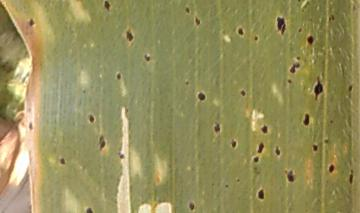tarspot: (312, 77, 324, 100), (283, 167, 296, 182), (276, 16, 286, 35), (97, 135, 106, 151), (235, 26, 246, 37), (306, 33, 315, 46), (256, 187, 265, 200), (348, 168, 355, 183), (302, 113, 310, 126), (290, 62, 300, 72), (126, 30, 134, 42), (213, 120, 220, 133), (116, 150, 126, 159), (87, 114, 96, 124), (197, 91, 206, 101), (27, 118, 33, 132), (328, 161, 335, 173), (327, 13, 336, 22), (58, 155, 66, 165), (103, 1, 111, 11), (260, 124, 268, 134), (143, 52, 151, 61), (187, 201, 195, 210), (258, 141, 264, 153), (274, 144, 280, 156), (28, 17, 35, 27), (193, 15, 200, 25), (83, 207, 94, 213), (231, 138, 237, 149), (251, 33, 259, 41), (80, 87, 87, 95), (123, 105, 130, 113), (184, 6, 191, 14), (183, 78, 190, 86), (286, 77, 293, 85), (294, 53, 301, 61), (296, 25, 303, 33), (235, 175, 241, 184), (253, 155, 259, 163), (312, 143, 318, 151), (323, 136, 329, 144), (328, 117, 334, 125), (240, 89, 246, 97), (116, 71, 121, 80), (348, 83, 353, 92), (224, 182, 230, 189)
